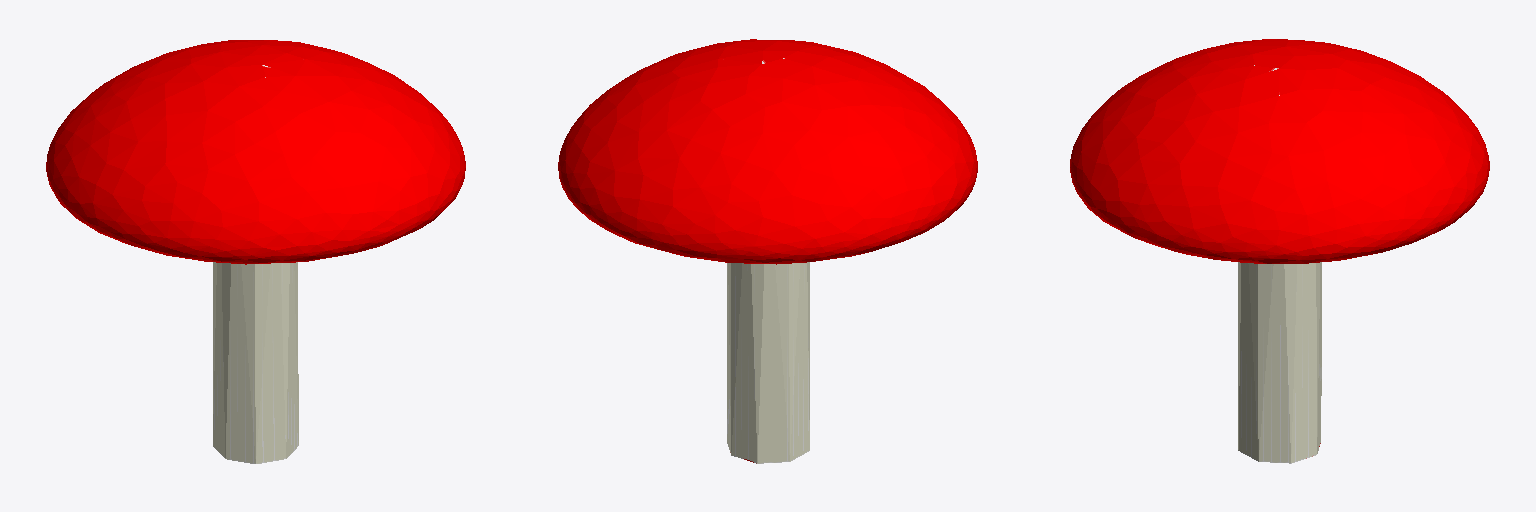
The picture shows the model from 3 angles: view 1: azimuth 30°, elevation 25°; view 2: azimuth 150°, elevation 25°; view 3: azimuth 270°, elevation 25°; orthographic projection.
Parts seen in each view (by area): view 1: 円柱; view 2: 円柱; view 3: 円柱.
Part boxes in pixels (x1,y1,x2,y2): 円柱: (46,40,465,463); 円柱: (558,39,977,463); 円柱: (1070,39,1489,463).
Bounding box in the file's own units: 1 × 1 × 1.
Materials: 1 (1 with a texture image).